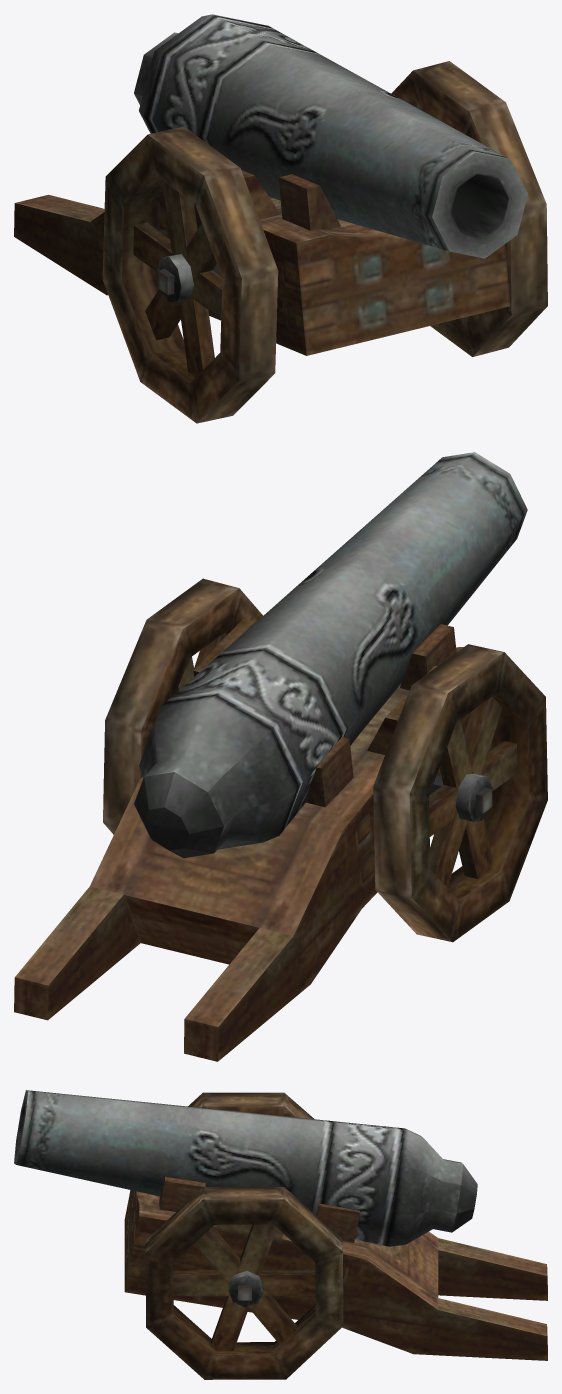
File: b_general_obj_05.fbx
3 renders of one model, top to bottom at view 1: azimuth 30°, elevation 25°; view 2: azimuth 150°, elevation 25°; view 3: azimuth 270°, elevation 25°, orthographic. The views are drawn at different scales.
Parts seen in each view (by area): view 1: B_general_obj_03; view 2: B_general_obj_03; view 3: B_general_obj_03.
Part boxes in pixels (x1,y1,x2,y2): B_general_obj_03: [14, 14, 547, 423]; B_general_obj_03: [14, 452, 547, 1061]; B_general_obj_03: [14, 1090, 547, 1379].
Bounding box in the file's own units: 1.56 × 1.48 × 3.07.
